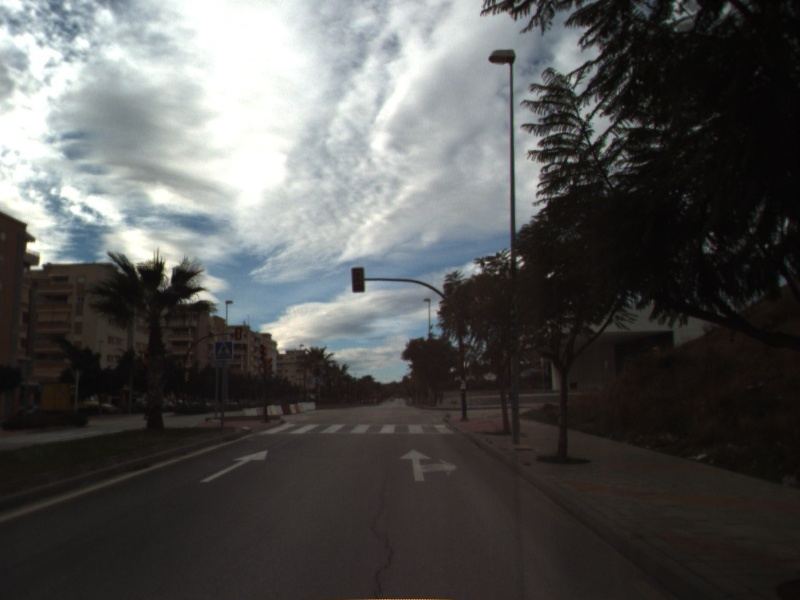STRAIGHT: (198, 448, 270, 484)
STRAIGHT_RIGHT: (398, 447, 460, 484)
